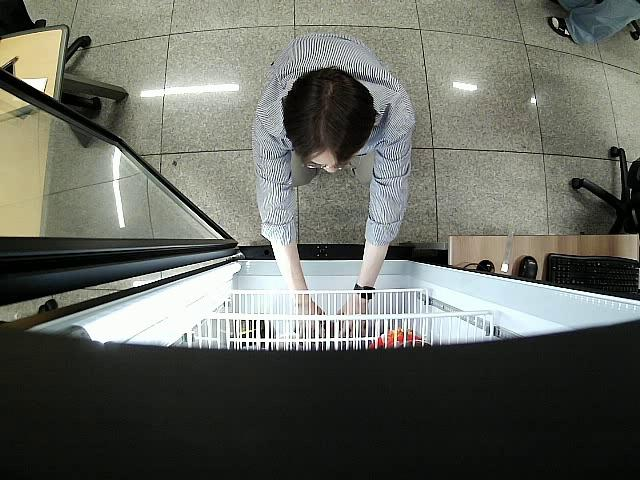00_hand: (290, 300, 327, 339), (336, 303, 369, 344)
